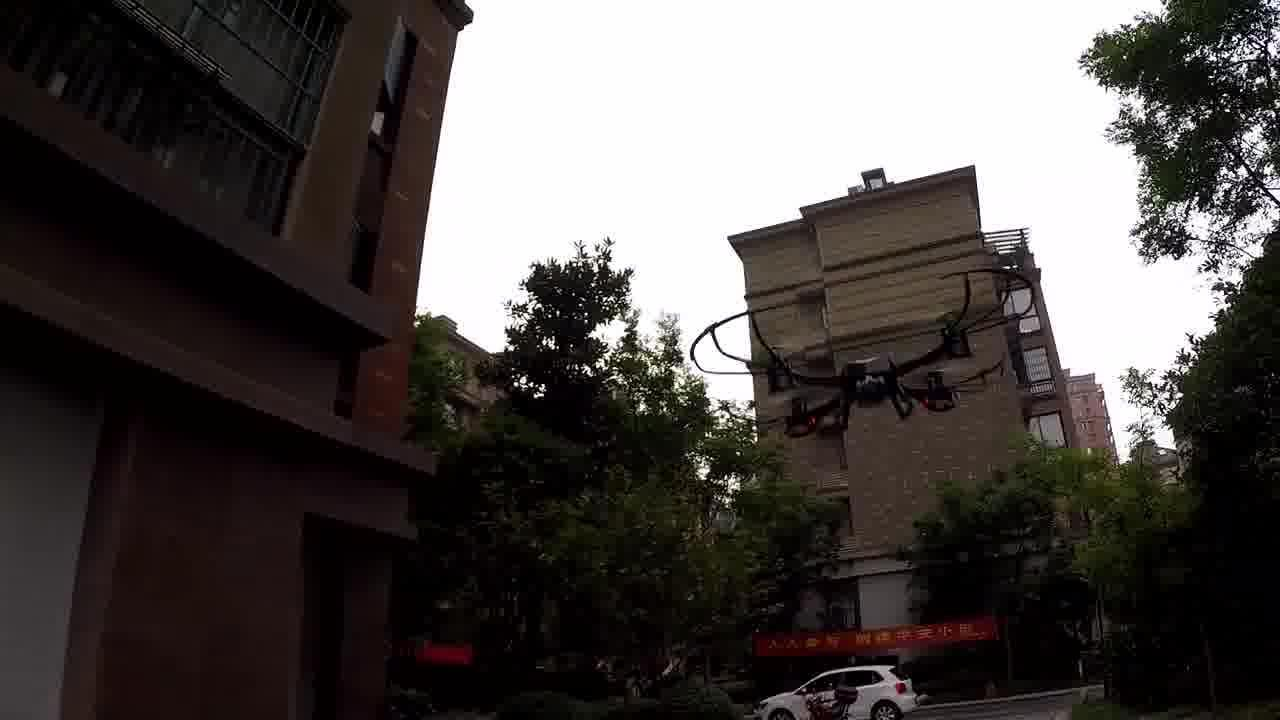drone: (689, 265, 1040, 441)
